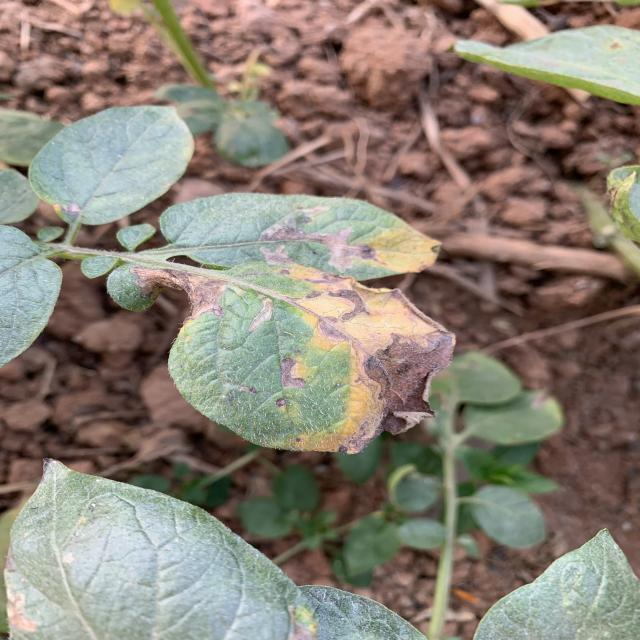lateblight: (367, 333, 456, 438), (121, 265, 223, 351)
